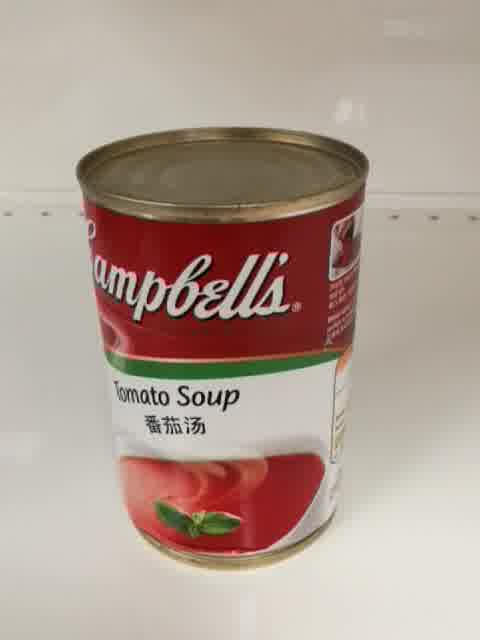tomatosoup: (73, 123, 371, 575)
